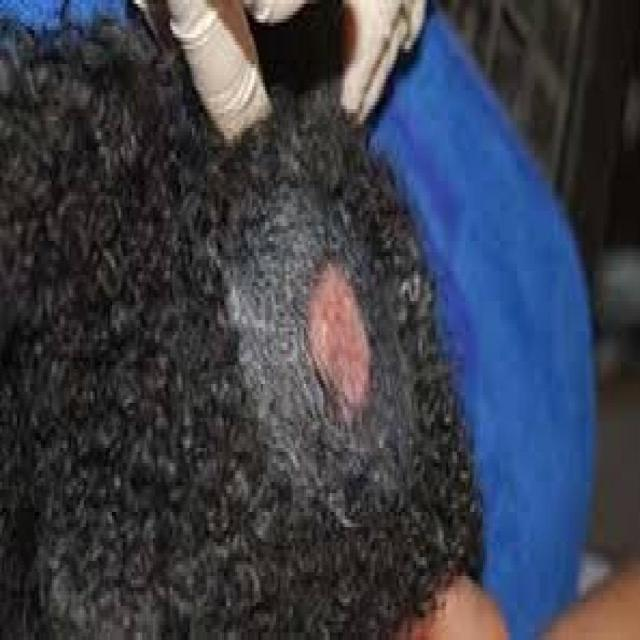hac lao: (224, 217, 426, 496)
